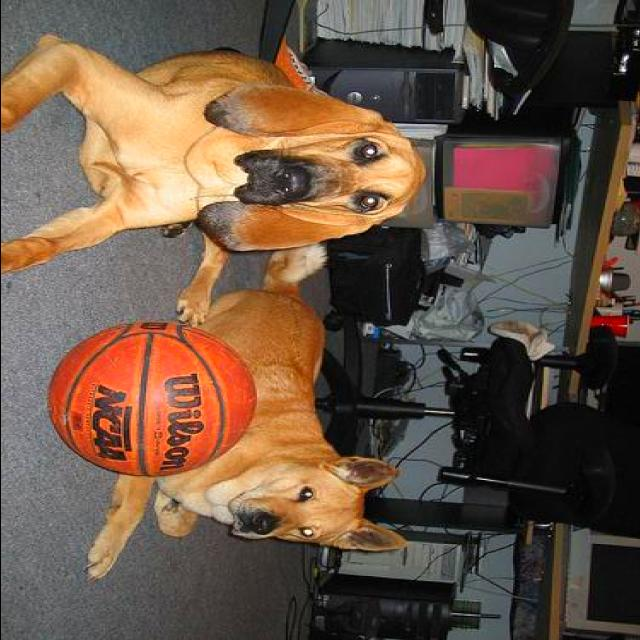bloodhound: (2, 29, 430, 329)
